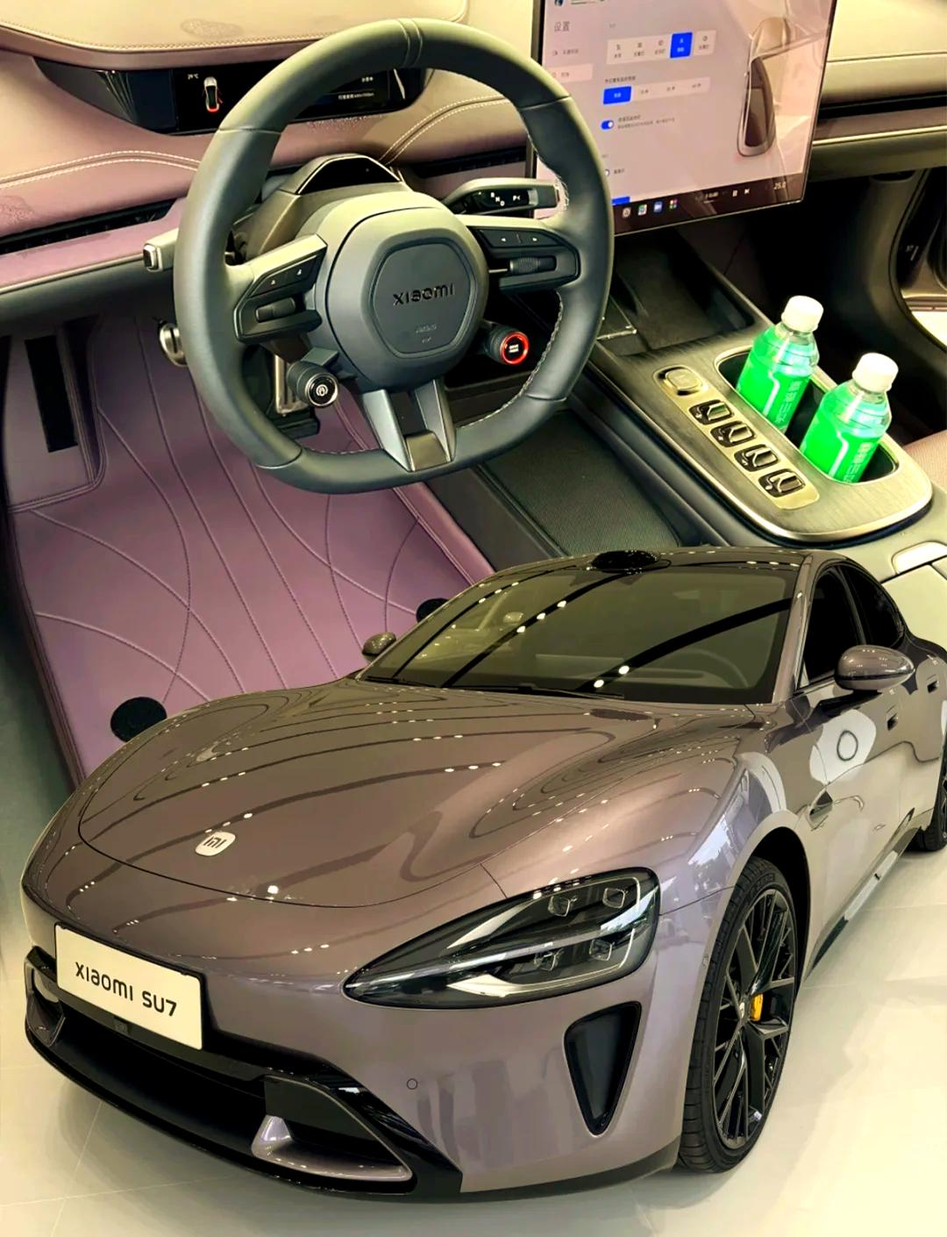su7: (32, 543, 943, 1221)
